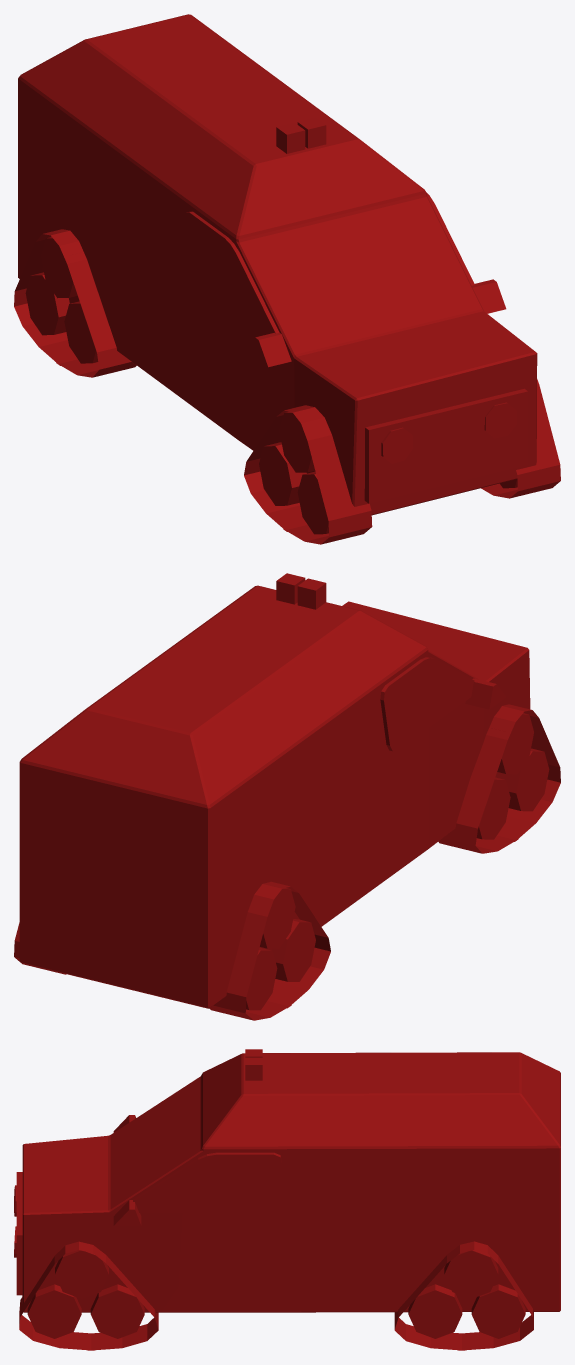
Rendered from kurtarmaArac.fbx.
3 renders of one model, top to bottom at view 1: azimuth 30°, elevation 25°; view 2: azimuth 150°, elevation 25°; view 3: azimuth 270°, elevation 25°, orthographic. The views are drawn at different scales.
Visible parts, largest first — view 1: arac; view 2: arac; view 3: arac.
Part boxes in pixels (<box>): arac: <box>14,14,560,544</box>; arac: <box>14,573,560,1020</box>; arac: <box>14,1049,560,1350</box>.
Size of the model in its own units: 250 by 304 by 609.
